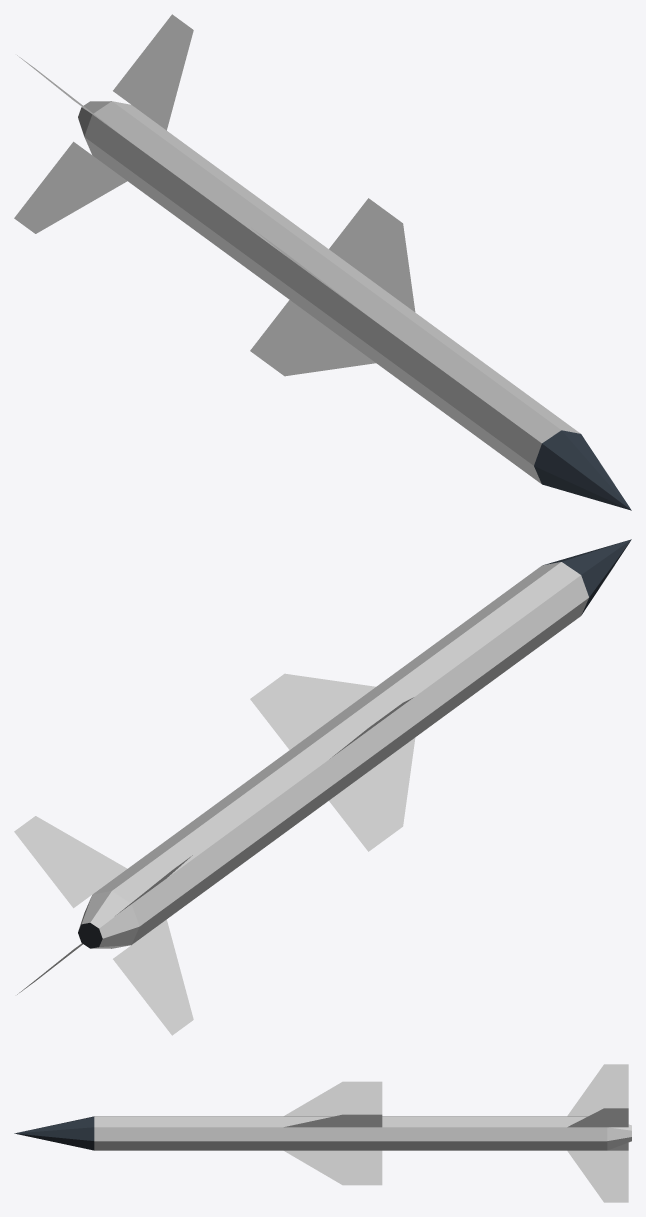
Rendered from missile_radar_long.glb.
The picture shows the model from 3 angles, top to bottom: view 1: azimuth 30°, elevation 25°; view 2: azimuth 150°, elevation 25°; view 3: azimuth 270°, elevation 25°; orthographic projection. The views are drawn at different scales.
Parts seen in each view (by area): view 1: missile_radar_long; view 2: missile_radar_long; view 3: missile_radar_long.
Boxes of the visible parts, box(x1,y1,x2,y2) form: missile_radar_long: box(14, 14, 631, 510); missile_radar_long: box(14, 539, 631, 1035); missile_radar_long: box(14, 1064, 631, 1202).
Size of the model in its own units: 0.6575 by 0.6575 by 3.9.
